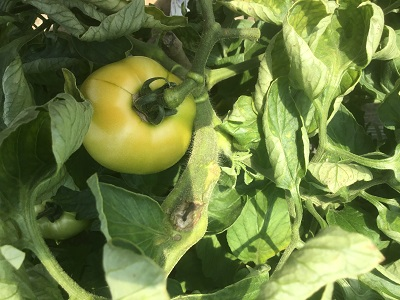immature-tomato: (80, 56, 196, 175)
